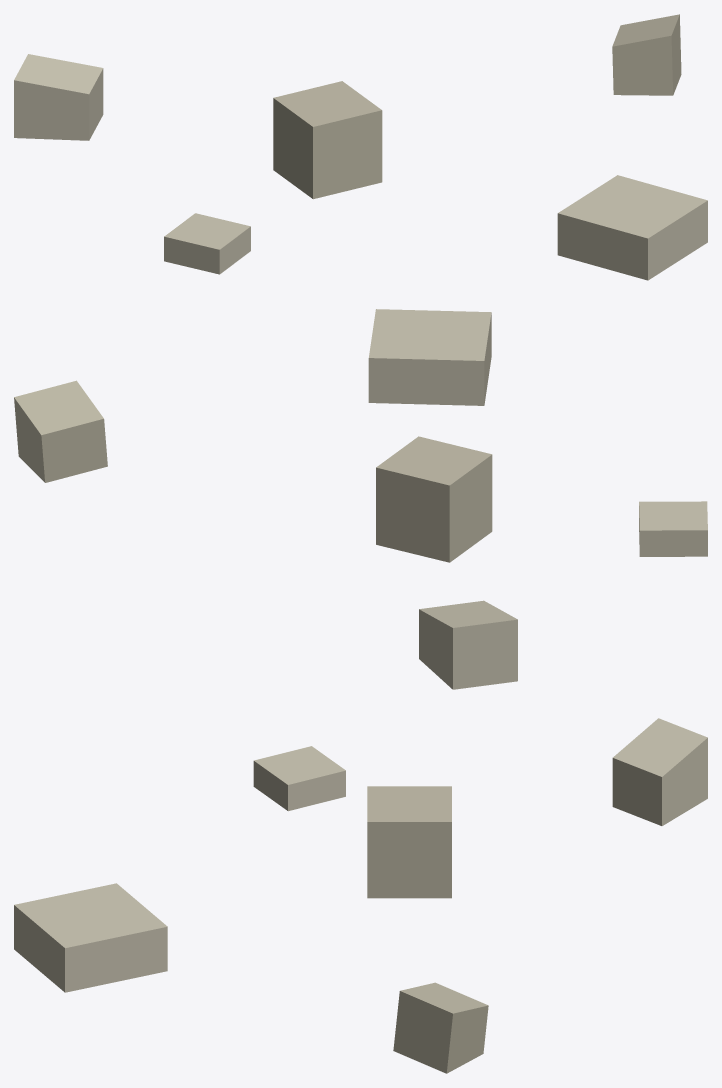
The model's file is Rocks_Square_s_01.fbx.
3 renders of one model, top to bottom at view 1: azimuth 30°, elevation 25°; view 2: azimuth 150°, elevation 25°; view 3: azimuth 270°, elevation 25°, orthographic. The views are drawn at different scales.
Parts seen in each view (by area): view 1: Rocks_Square_s_01; view 2: Rocks_Square_s_01; view 3: Rocks_Square_s_01.
Boxes of the visible parts, x1,y1,x2,y2 form: Rocks_Square_s_01: [14, 14, 707, 280]; Rocks_Square_s_01: [14, 309, 707, 689]; Rocks_Square_s_01: [14, 718, 707, 1073].
Size of the model in its own units: 68.34 by 8.47 by 66.65.
